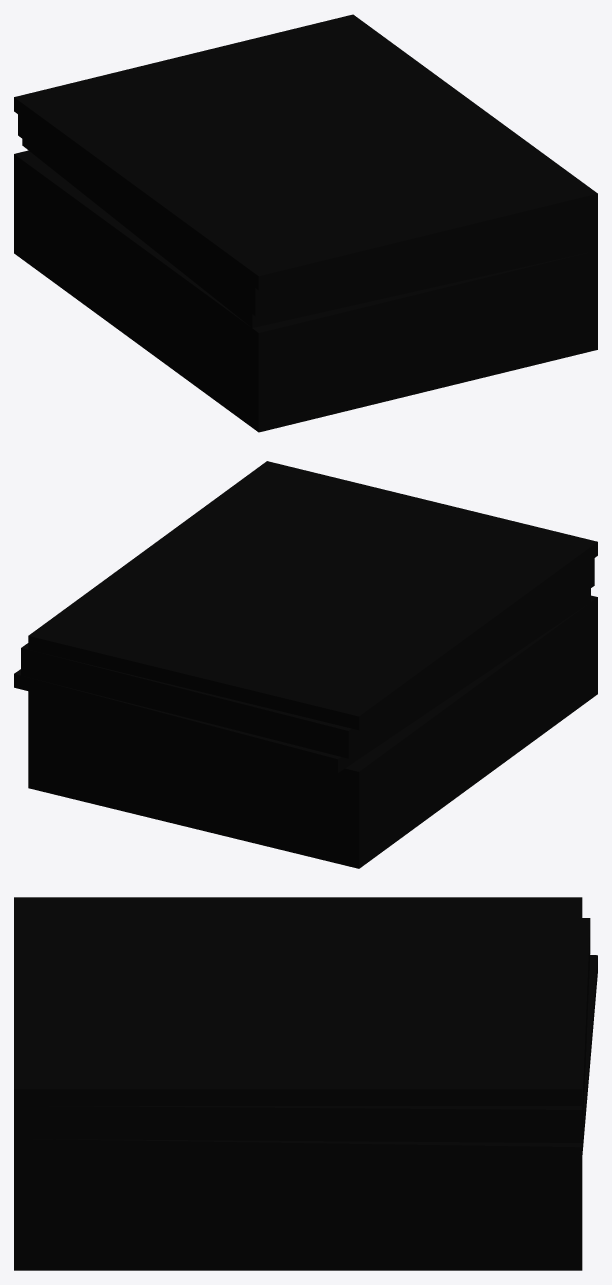
The picture shows the model from 3 angles, top to bottom: view 1: azimuth 30°, elevation 25°; view 2: azimuth 150°, elevation 25°; view 3: azimuth 270°, elevation 25°; orthographic projection. The views are drawn at different scales.
Visible parts, largest first — view 1: Joint_0_Object_0; view 2: Joint_0_Object_0; view 3: Joint_0_Object_0.
Part boxes in pixels (<box>): Joint_0_Object_0: <box>14,14,597,432</box>; Joint_0_Object_0: <box>14,461,597,868</box>; Joint_0_Object_0: <box>14,897,597,1270</box>.
Size of the model in its own units: 522 by 220 by 642.
1 material, 1 textured.
